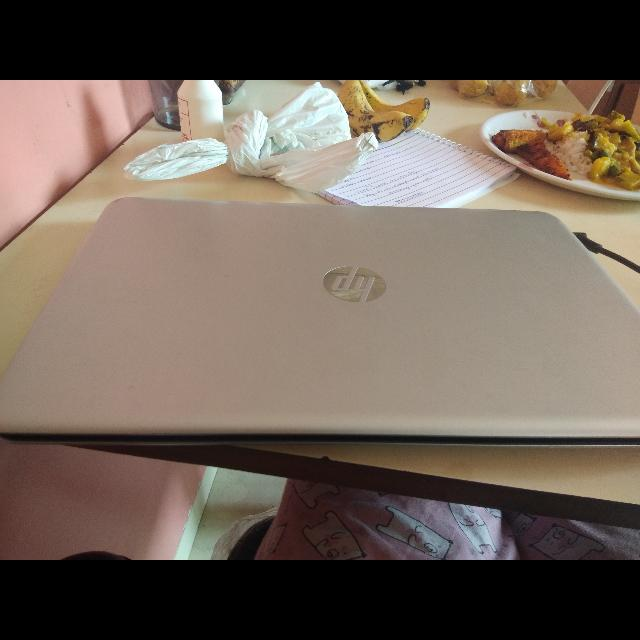Laptop: (1, 190, 640, 466)
